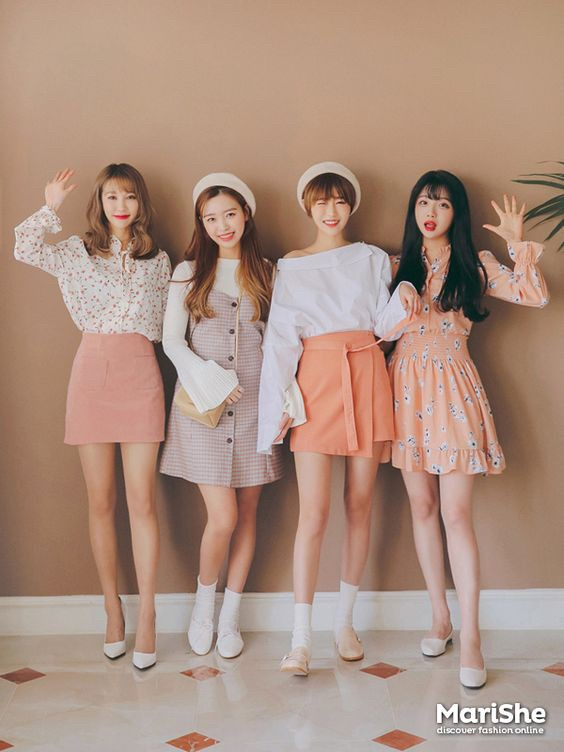people: (52, 159, 188, 677), (393, 159, 502, 690), (168, 163, 277, 672), (289, 153, 381, 681)
